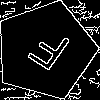F: (20, 26, 73, 80)
